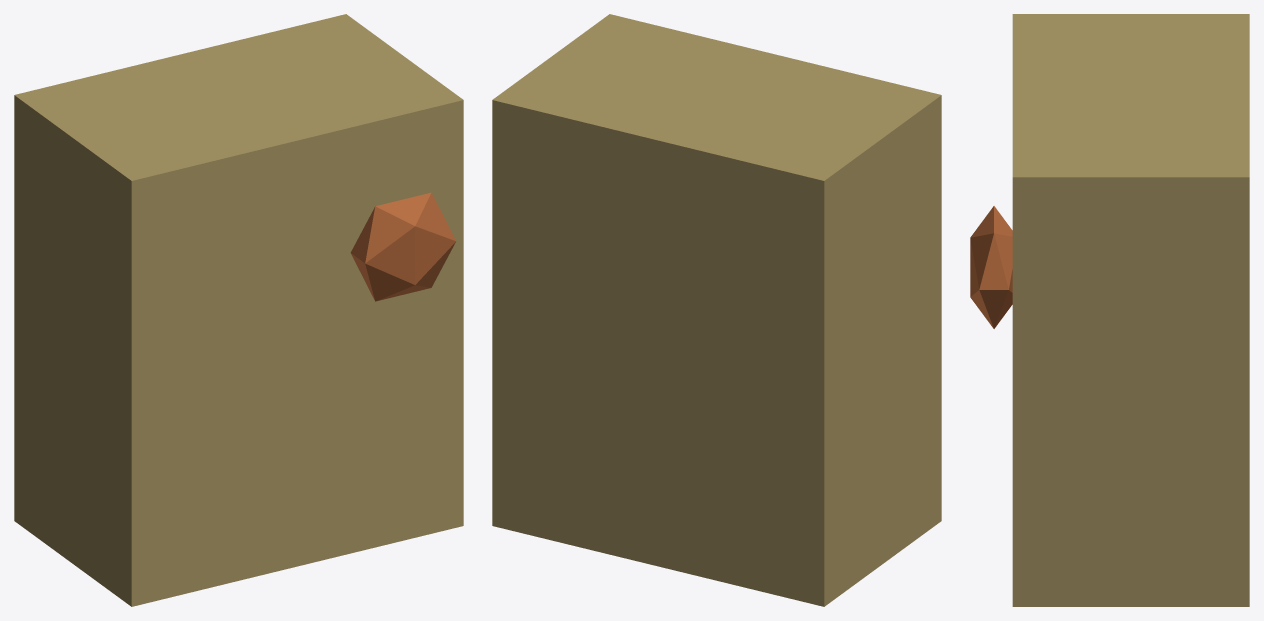
File: body.glb
The picture shows the model from 3 angles, left to right: view 1: azimuth 30°, elevation 25°; view 2: azimuth 150°, elevation 25°; view 3: azimuth 270°, elevation 25°; orthographic projection.
Parts seen in each view (by area): view 1: chest, chest_emblem; view 2: chest; view 3: chest, chest_emblem.
Boxes of the visible parts, box(x1,y1,x2,y2) form: chest: box(14, 14, 463, 606); chest_emblem: box(350, 192, 456, 301); chest: box(492, 14, 941, 606); chest: box(1012, 14, 1249, 606); chest_emblem: box(970, 206, 1012, 328).
Bounding box in the file's own units: 0.62 × 0.76 × 0.4483.
